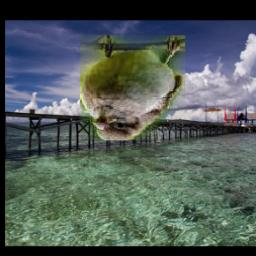Sparrow: (80, 36, 185, 141)
